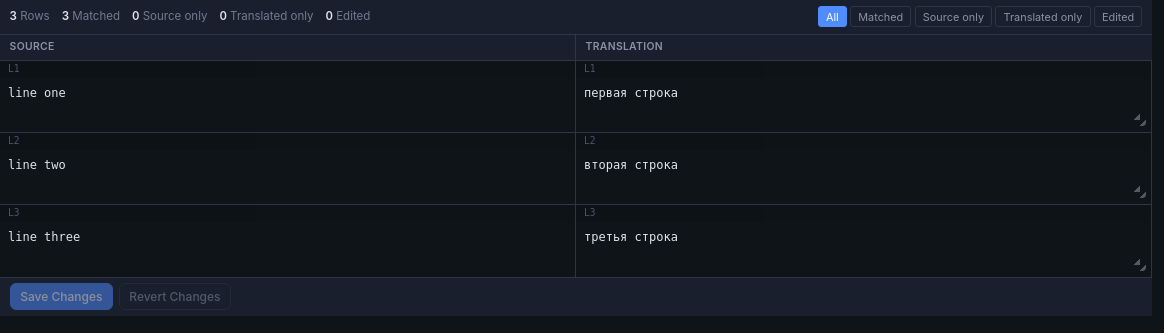
Test: PairLineEditorPanel › filters › shows empty message when filter yields no results
# No edited rows initially, so "Edited" filter shows empty state
What coordinates should you click on to do the following:
click the button "Edited"
I would click on:
 (1118, 17)
Its box is [1094, 6, 1142, 27].
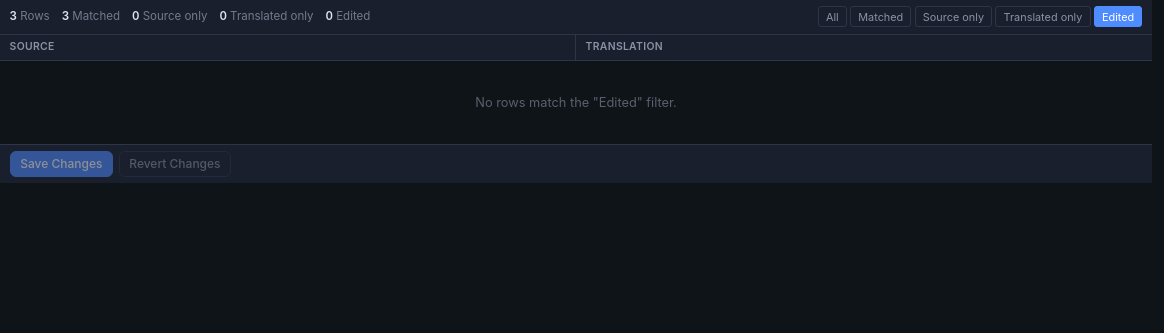
Result: the text "No rows match the \"Edited\" filter." is shown at [475, 95, 677, 110]
